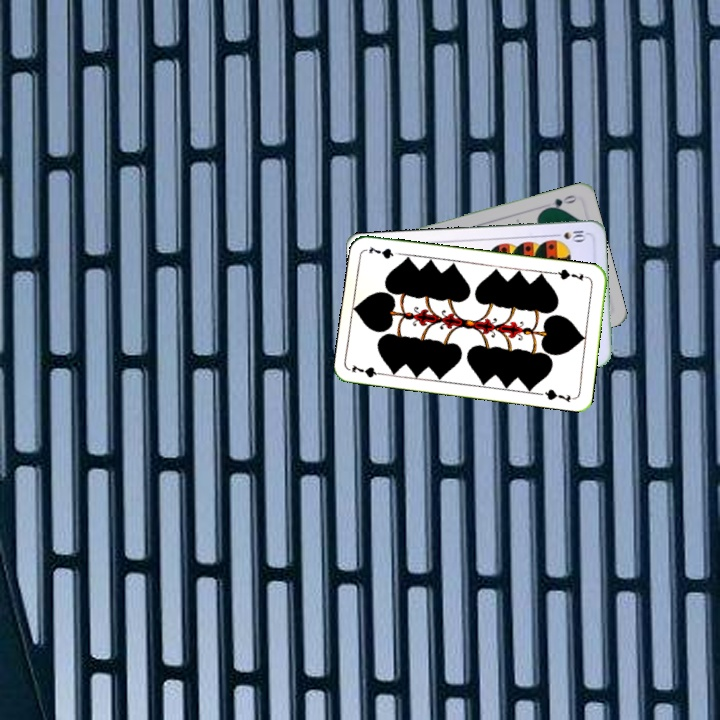G7: (348, 360, 389, 380), (551, 265, 591, 284)
GO: (540, 191, 579, 213)
S10: (549, 226, 590, 243)
